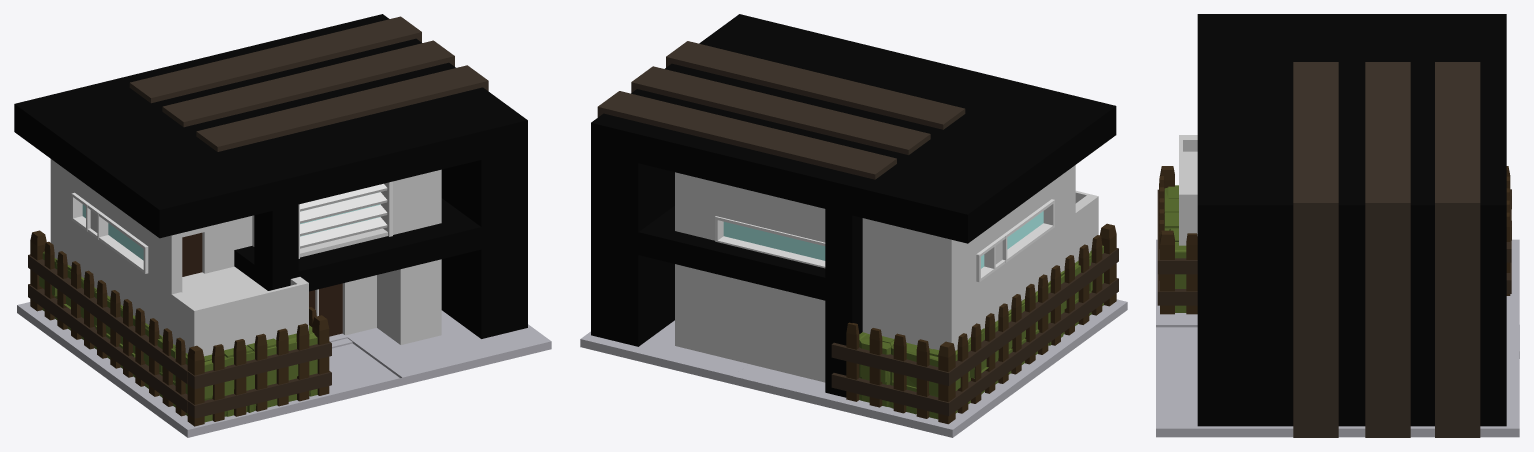
File: House.dae
3 views of the same model, side by side, from view 1: azimuth 30°, elevation 25°; view 2: azimuth 150°, elevation 25°; view 3: azimuth 270°, elevation 25° (orthographic). The views are drawn at different scales.
Parts seen in each view (by area): view 1: Cube.001, Cube, Cube.002, Cube.051, Cube.070, Cube.049, Cube.047, Cube.068, Cube.065, Cube.067, Cube.063, Cube.025 (+14 smaller); view 2: Cube.001, Cube, Cube.002, Cube.049, Cube.051, Cube.070, Cube.065, Cube.068, Cube.047, Cube.064, Cube.069, Cube.011 (+14 smaller); view 3: Cube.001, Cube.070, Cube.051, Cube.049, Cube.002, Cube, Cube.047, Cube.039, Cube.066, Cube.062, Cube.033, Cube.012.
Boxes of the visible parts, box(x1,y1,x2,y2) form: Cube.001: box(14, 14, 527, 338); Cube: box(50, 159, 441, 356); Cube.002: box(17, 302, 551, 437); Cube.051: box(162, 40, 454, 127); Cube.070: box(196, 65, 488, 151); Cube.049: box(129, 16, 421, 103); Cube.047: box(39, 251, 317, 422); Cube.068: box(28, 284, 188, 413); Cube.065: box(28, 254, 188, 384); Cube.067: box(187, 372, 331, 418); Cube.063: box(187, 343, 331, 389); Cube.025: box(300, 204, 387, 236); Cube.001: box(591, 14, 1116, 397); Cube: box(675, 165, 1098, 382); Cube.002: box(580, 299, 1127, 437); Cube.049: box(597, 91, 896, 179); Cube.051: box(631, 66, 930, 154); Cube.070: box(666, 41, 965, 129); Cube.065: box(936, 253, 1111, 385); Cube.068: box(936, 283, 1111, 416); Cube.047: box(859, 245, 1103, 419); Cube.064: box(831, 342, 938, 382); Cube.069: box(831, 373, 938, 412); Cube.011: box(723, 221, 825, 260); Cube.001: box(1197, 14, 1506, 426); Cube.070: box(1293, 62, 1338, 437); Cube.051: box(1365, 62, 1410, 437); Cube.049: box(1435, 62, 1480, 437); Cube.002: box(1156, 239, 1519, 437); Cube: box(1179, 135, 1197, 245); Cube.047: box(1164, 185, 1186, 312); Cube.039: box(1160, 230, 1174, 314); Cube.066: box(1157, 285, 1197, 305); Cube.062: box(1157, 254, 1197, 274); Cube.033: box(1186, 233, 1197, 314); Cube.012: box(1506, 325, 1519, 358).
Size of the model in its own units: 68 by 53.81 by 38.65.
